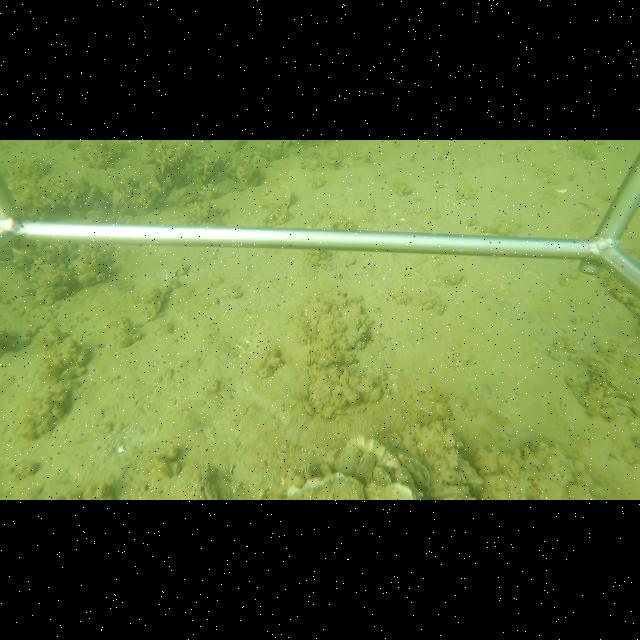Oyster-Closed: (134, 285, 170, 324), (256, 180, 293, 208), (332, 446, 366, 476), (356, 450, 378, 483), (373, 464, 392, 490)
Oyster-Open: (397, 453, 432, 490)
